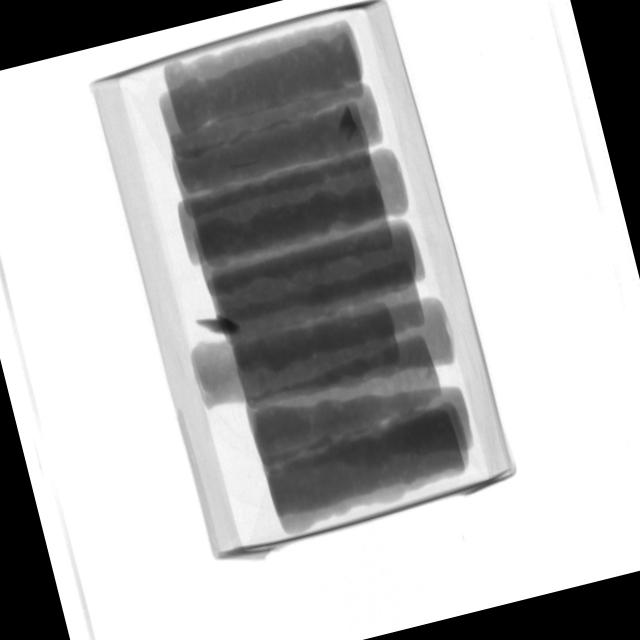ym: (194, 308, 243, 345), (335, 106, 363, 144)
